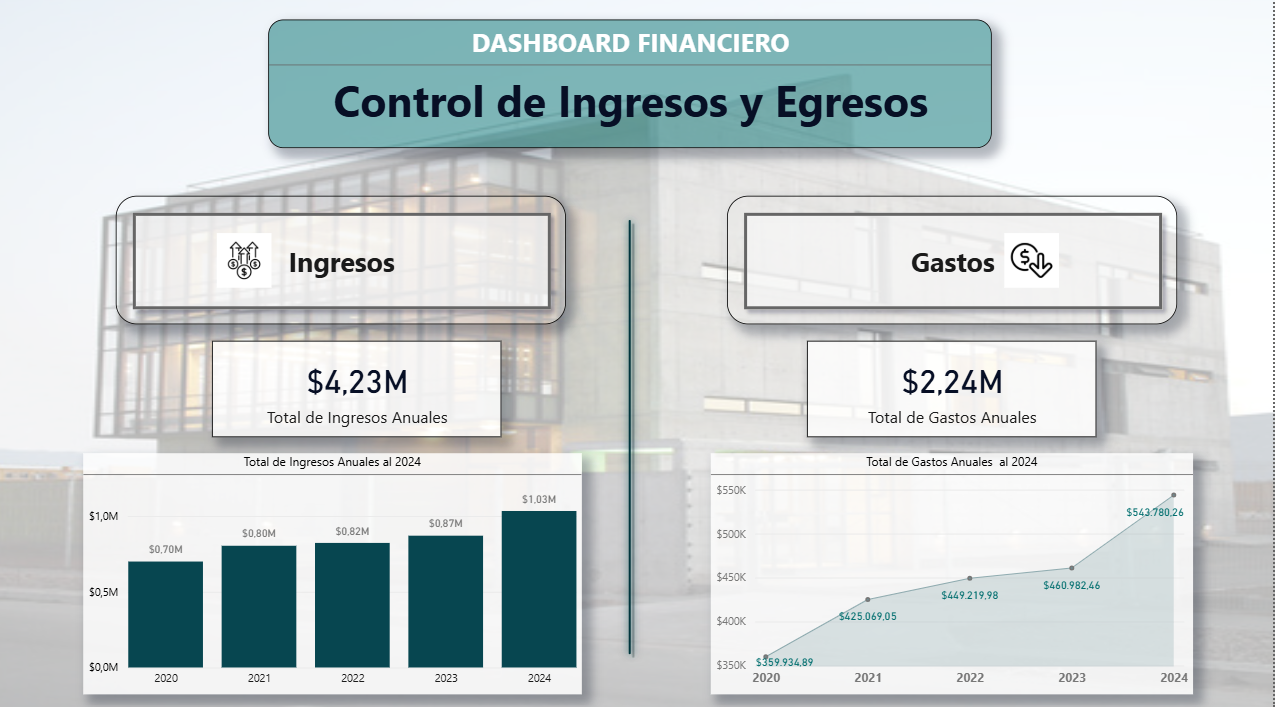

This screenshot's page, from the dashboard's own definition file:
{"tool":"powerbi","page":{"name":"Portada","canvas":[1280,720],"ordinal":0},"visuals":[{"type":"actionButton","box":[128,208,448,128],"z":0},{"type":"textbox","title":"DASHBOARD FINANCIERO","box":[280,32,720,128],"z":1000},{"type":"actionButton","box":[736,208,448,128],"z":3000},{"type":"card","fields":{"Values":["Sum(Sheet1.Ingresos Anuales)"]},"box":[224,352,288,96],"z":4000},{"type":"card","fields":{"Values":["Sum(Sheet1.Gastos Anuales)"]},"box":[816,352,288,96],"z":5000},{"type":"image","box":[224,240,64,64],"z":6000},{"type":"image","box":[1008,240,64,64],"z":7000},{"type":"shape","box":[544,224,192,448],"z":8000},{"type":"columnChart","title":"Total de Ingresos Anuales al 2024","fields":{"Y":["Sum(Sheet1.Ingresos Anuales)"],"Category":["Sheet1.Año"]},"box":[96,464,496,240],"z":9000},{"type":"lineChart","title":"Total de Gastos Anuales  al 2024","fields":{"Category":["Sheet1.Año"],"Y":["Sum(Sheet1.Gastos Anuales)"]},"box":[720,464,480,240],"z":10000}]}

Visuals, with their boxes in screenshot pixels (x1, y1, x2, y2), scaled from the page's 1280x720 canvas onto the 1275x707 screenshot:
actionButton: pyautogui.locateOnScreen(128, 204, 574, 330)
"DASHBOARD FINANCIERO" textbox: pyautogui.locateOnScreen(279, 31, 996, 157)
actionButton: pyautogui.locateOnScreen(733, 204, 1179, 330)
card - Sum(Sheet1.Ingresos Anuales): pyautogui.locateOnScreen(223, 346, 510, 440)
card - Sum(Sheet1.Gastos Anuales): pyautogui.locateOnScreen(813, 346, 1100, 440)
image: pyautogui.locateOnScreen(223, 236, 287, 299)
image: pyautogui.locateOnScreen(1004, 236, 1068, 299)
shape: pyautogui.locateOnScreen(542, 220, 733, 660)
"Total de Ingresos Anuales al 2024" columnChart: pyautogui.locateOnScreen(96, 456, 590, 691)
"Total de Gastos Anuales  al 2024" lineChart: pyautogui.locateOnScreen(717, 456, 1195, 691)
